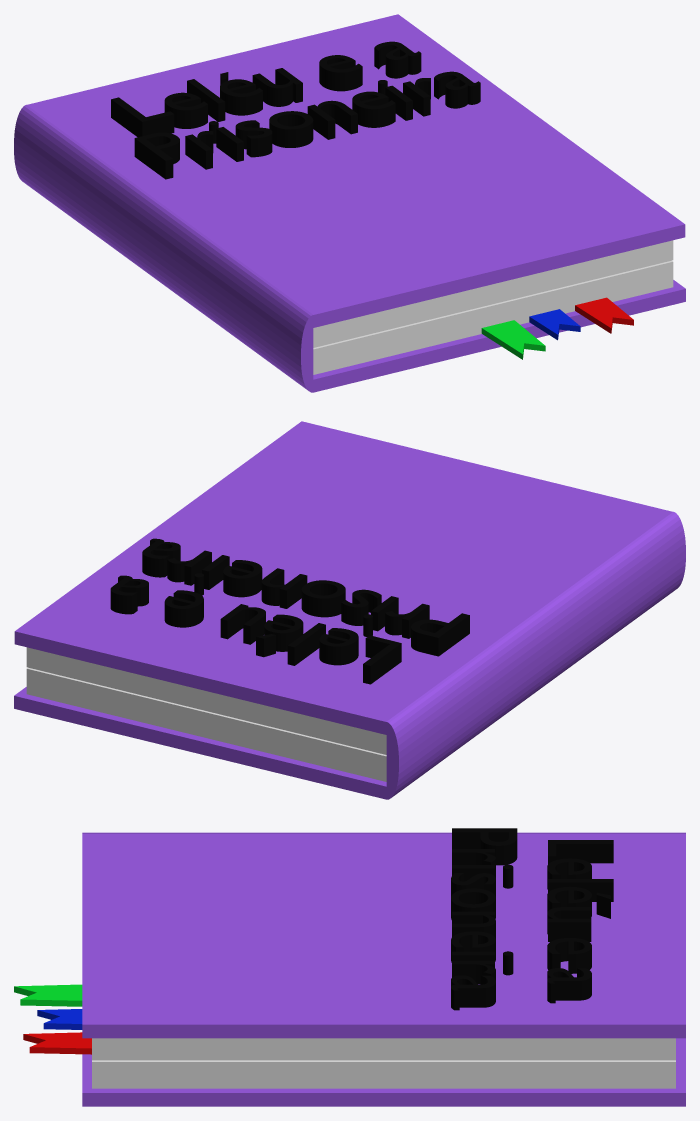
File: Book2.fbx
3 views of the same model, one above another, from view 1: azimuth 30°, elevation 25°; view 2: azimuth 150°, elevation 25°; view 3: azimuth 270°, elevation 25° (orthographic). The views are drawn at different scales.
Visible parts, largest first — view 1: Cover L, Spine, Title, Pages, Pages.001, Cover R, Tabs.001, Tabs, Tabs2; view 2: Cover L, Spine, Title, Pages, Pages.001, Cover R; view 3: Cover L, Title, Pages, Pages.001, Cover R, Tabs.001, Tabs, Spine, Tabs2.
Boxes of the visible parts, x1=… form: Cover L: x1=27, y1=14, x2=685, y2=327; Spine: x1=14, y1=104, x2=313, y2=392; Title: x1=111, y1=41, x2=480, y2=179; Pages: x1=313, y1=260, x2=673, y2=374; Pages.001: x1=313, y1=240, x2=673, y2=347; Cover R: x1=313, y1=280, x2=685, y2=392; Tabs.001: x1=481, y1=320, x2=545, y2=359; Tabs: x1=575, y1=297, x2=633, y2=333; Tabs2: x1=529, y1=309, x2=580, y2=340; Cover L: x1=14, y1=421, x2=672, y2=734; Spine: x1=386, y1=511, x2=685, y2=799; Title: x1=110, y1=538, x2=469, y2=684; Pages: x1=26, y1=667, x2=386, y2=781; Pages.001: x1=26, y1=647, x2=386, y2=754; Cover R: x1=14, y1=687, x2=386, y2=799; Cover L: x1=82, y1=833, x2=685, y2=1038; Title: x1=451, y1=828, x2=613, y2=1010; Pages: x1=92, y1=1060, x2=675, y2=1088; Pages.001: x1=92, y1=1038, x2=675, y2=1060; Cover R: x1=82, y1=1038, x2=685, y2=1106; Tabs.001: x1=14, y1=984, x2=82, y2=1006; Tabs: x1=23, y1=1032, x2=91, y2=1054; Spine: x1=82, y1=832, x2=685, y2=833; Tabs2: x1=37, y1=1009, x2=82, y2=1029.
Size of the model in its own units: 155 by 37 by 223.
